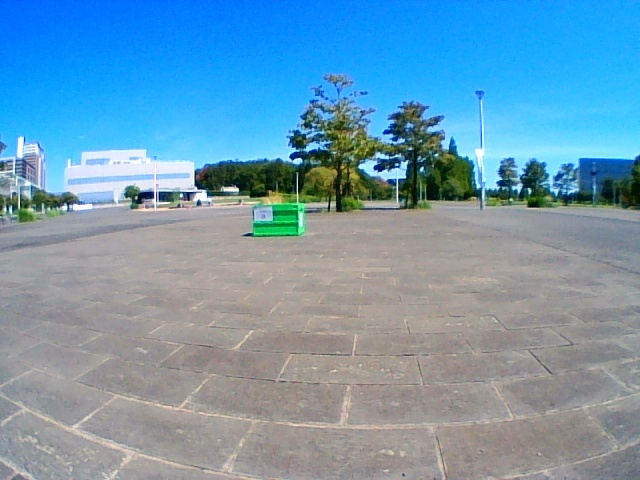green_box: (252, 203, 304, 236)
tag: (253, 207, 272, 221)
